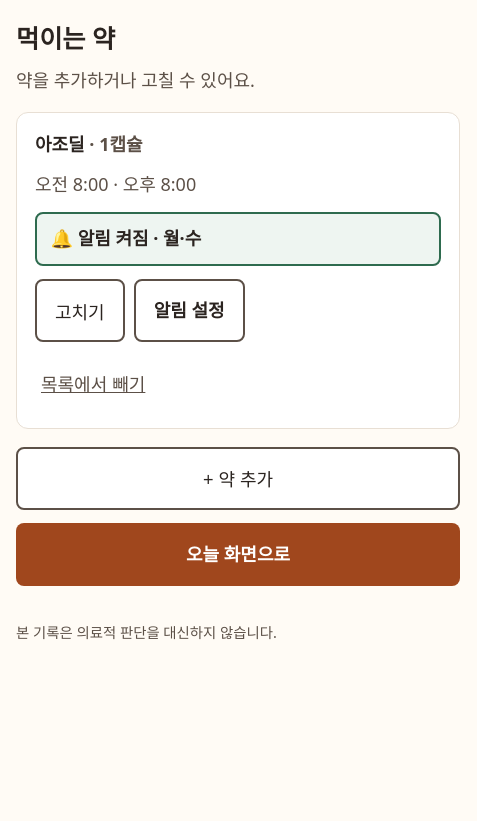
Test: 약 관리 — 등록·수정 › 입력 검증 문구 5종: 요청을 보내지 않는다
Click the button "+ 약 추가" at (238,478), box left=16, top=447, right=460, bottom=510
(page scrolled)
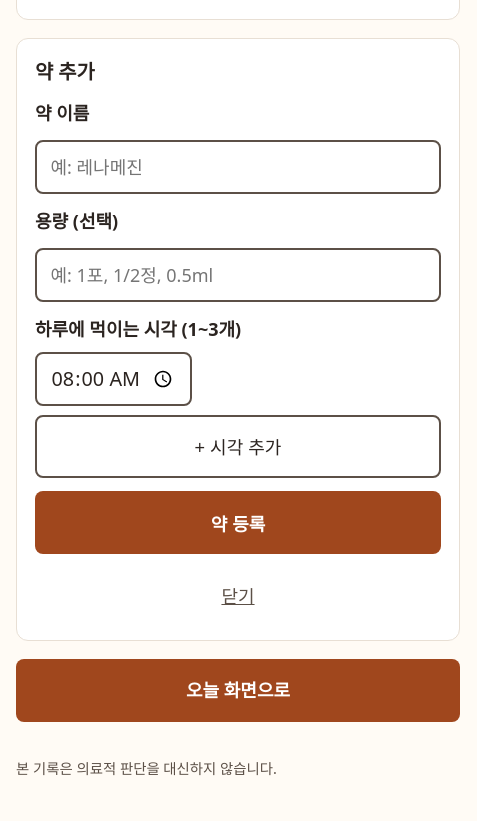
Click the button "약 등록" at (238,523), box left=35, top=492, right=441, bottom=554
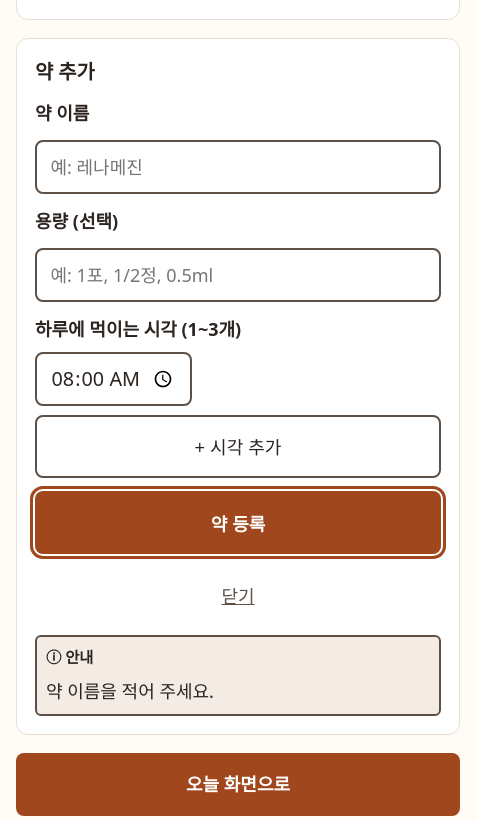
Now the text "약 이름을 적어 주세요." is shown, box left=35, top=636, right=441, bottom=716
Type "a" into the field labelled "약 이름" at (238,168), box left=35, top=140, right=441, bottom=194
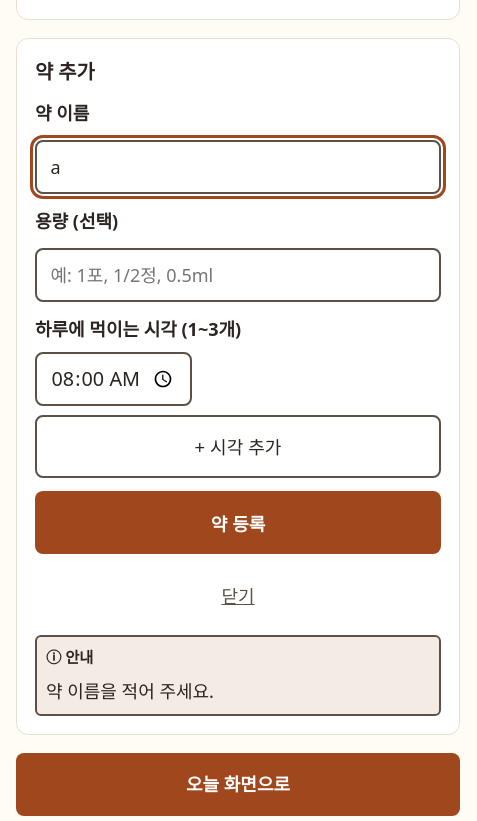
Clear the time field named "1번째 시각" at (113,379), box left=35, top=352, right=192, bottom=406
Click the button "약 등록" at (238,523), box left=35, top=492, right=441, bottom=554
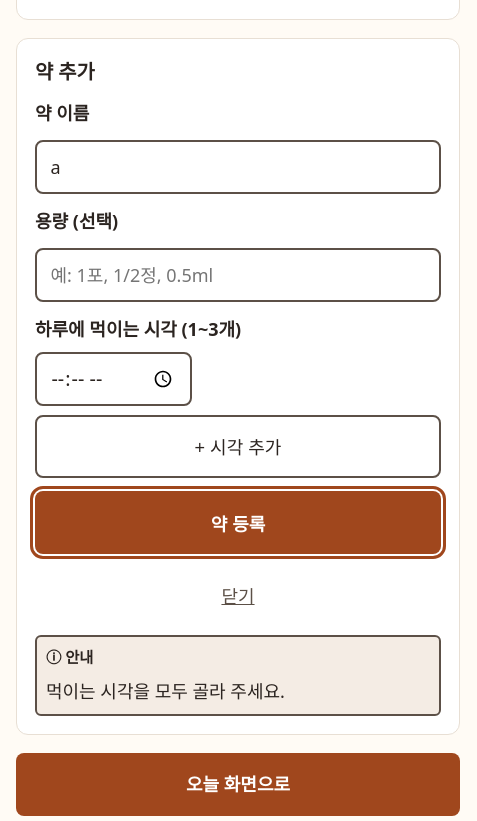
Now the text "먹이는 시각을 모두 골라 주세요." is shown, box left=35, top=636, right=441, bottom=716
Type "20:00" into the time field named "1번째 시각" at (113,379), box left=35, top=352, right=192, bottom=406
Click the button "+ 시각 추가" at (238,446), box left=35, top=415, right=441, bottom=478
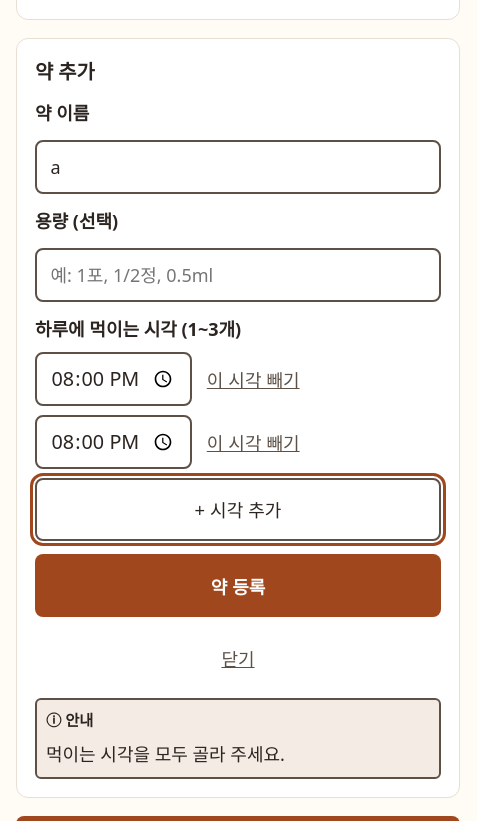
Click the button "약 등록" at (238,586), box left=35, top=554, right=441, bottom=618
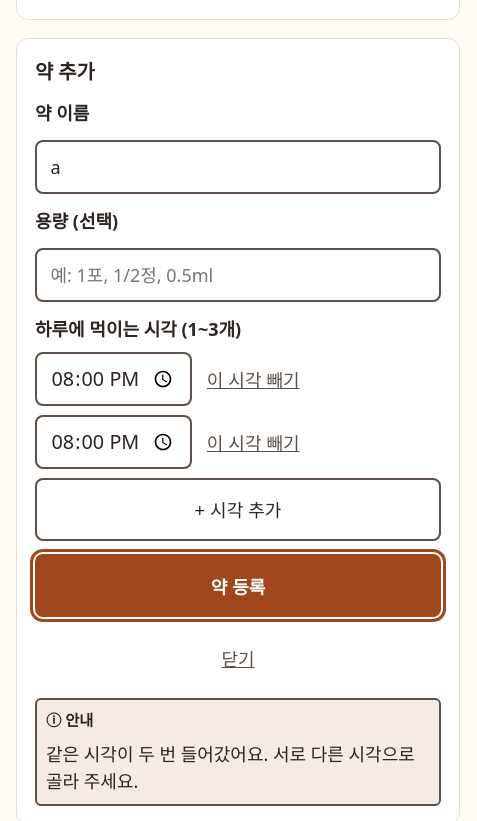
Now the text "같은 시각이 두 번 들어갔어요. 서로 다른 시각으로 골라 주세요." is shown, box left=35, top=698, right=441, bottom=806
